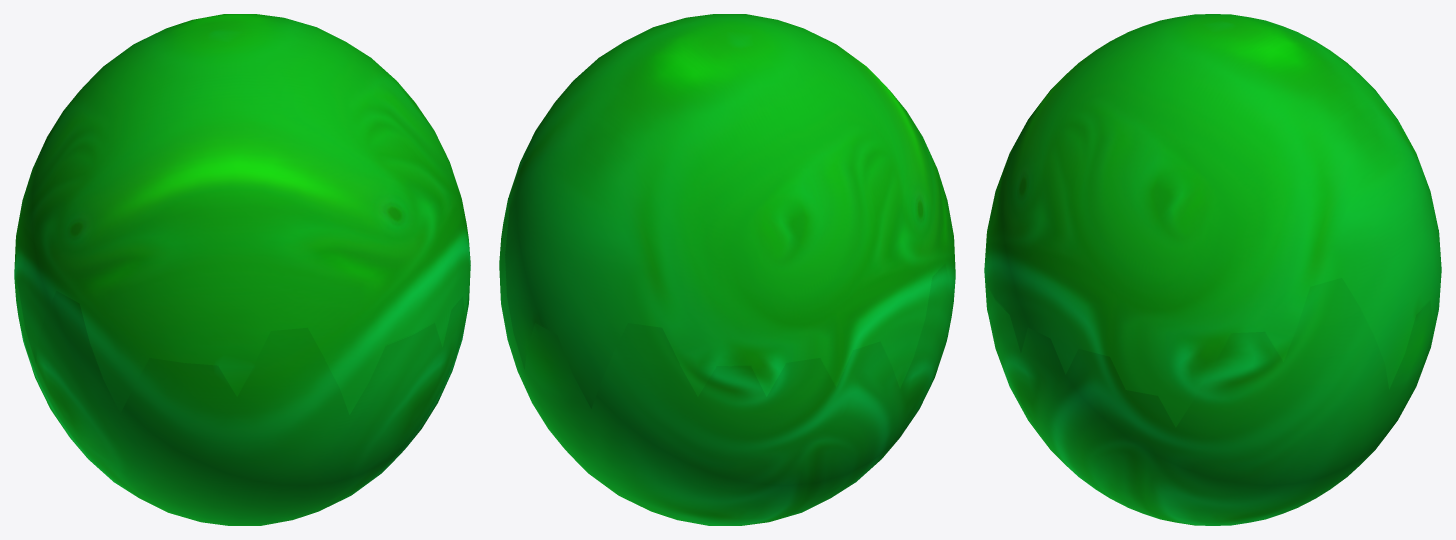
File: egg.glb
3 renders of one model, left to right at view 1: azimuth 30°, elevation 25°; view 2: azimuth 150°, elevation 25°; view 3: azimuth 270°, elevation 25°, orthographic.
Parts seen in each view (by area): view 1: topegg, bottomegg; view 2: topegg, bottomegg; view 3: topegg, bottomegg.
Boxes of the visible parts, x1,y1,x2,y2 form: topegg: (14, 14, 470, 414); bottomegg: (14, 276, 470, 525); topegg: (505, 14, 955, 408); bottomegg: (499, 198, 951, 525); topegg: (984, 14, 1441, 427); bottomegg: (987, 230, 1441, 525).
Bounding box in the file's own units: 2 × 2.3 × 2.
1 material, 1 textured.
